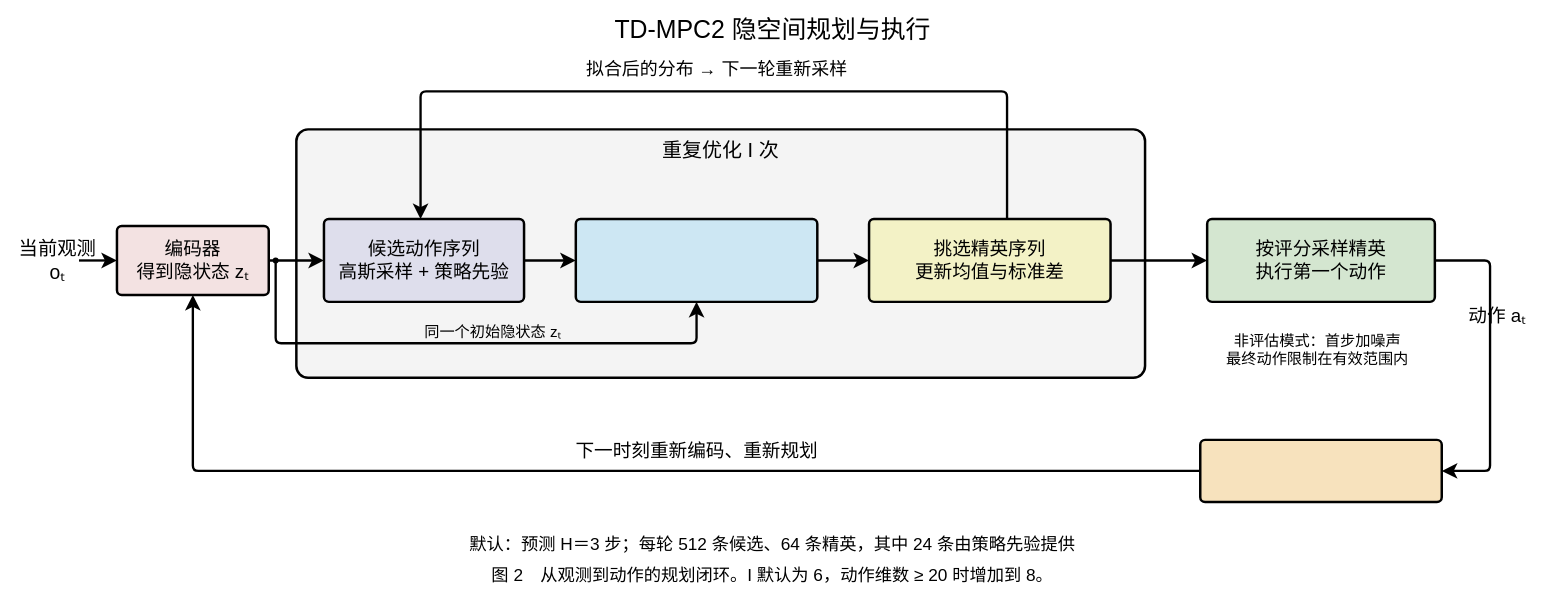
Image size: 1550x599. Some labels were removed from this diagram. Each missing label, with the box of its shape:
世界模型展开 H 步 累计奖励 + 末端价值: (574, 217, 818, 303)
真实环境 产生新观测和奖励: (1199, 438, 1443, 503)
